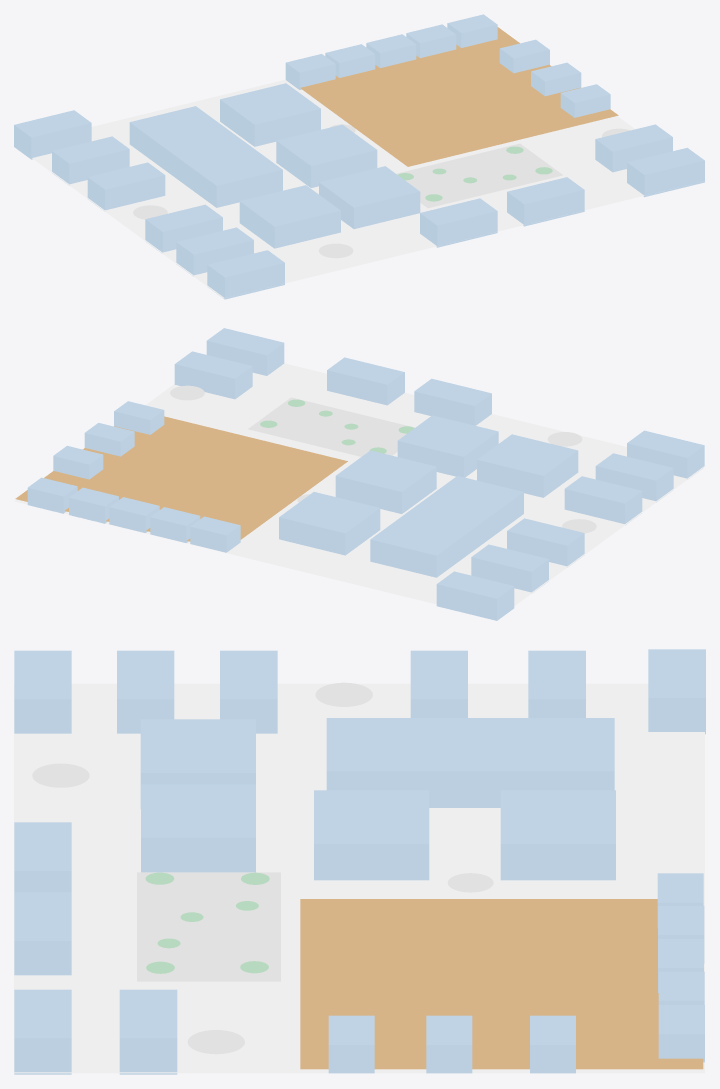
The model's file is mall.glb.
3 views of the same model, one above another, from view 1: azimuth 30°, elevation 25°; view 2: azimuth 150°, elevation 25°; view 3: azimuth 270°, elevation 25° (orthographic). The views are drawn at different scales.
Parts seen in each view (by area): view 1: FoodCourt_Main, Base_Rectangular, Multiplex, Seating_Area, Multiplex.001, Multiplex.002, Multiplex.003, Hypermarket, Shop_A1_01.005, Shop_A1_01.006, Shop_A1_01.008, Shop_A1_01.009 (+14 smaller); view 2: Base_Rectangular, FoodCourt_Main, Multiplex, Seating_Area, Multiplex.002, Multiplex.003, Multiplex.001, Hypermarket, Shop_A1_01, Shop_A1_01.003, Shop_A1_01.008, Shop_A1_01.007 (+14 smaller); view 3: Base_Rectangular, FoodCourt_Main, Multiplex, Seating_Area, Multiplex.002, Multiplex.003, Hypermarket, Multiplex.001, Shop_A1_01.007, Shop_A1_01.006, Shop_A1_01.005, Shop_A1_01.008 (+18 smaller).
Boxes of the visible parts, <box> form: FoodCourt_Main: <box>300,27,618,166</box>; Base_Rectangular: <box>32,79,705,298</box>; Multiplex: <box>129,106,282,207</box>; Seating_Area: <box>396,143,562,208</box>; Multiplex.001: <box>239,185,340,248</box>; Multiplex.002: <box>220,83,320,146</box>; Multiplex.003: <box>276,124,377,187</box>; Hypermarket: <box>319,166,420,229</box>; Shop_A1_01.005: <box>207,250,284,299</box>; Shop_A1_01.006: <box>627,147,704,197</box>; Shop_A1_01.008: <box>507,177,584,226</box>; Shop_A1_01.009: <box>420,198,497,247</box>; Base_Rectangular: <box>14,363,705,605</box>; FoodCourt_Main: <box>15,416,347,541</box>; Multiplex: <box>370,476,523,577</box>; Seating_Area: <box>248,397,414,456</box>; Multiplex.002: <box>279,492,380,555</box>; Multiplex.003: <box>335,450,436,513</box>; Multiplex.001: <box>477,434,578,497</box>; Hypermarket: <box>397,415,498,477</box>; Shop_A1_01: <box>436,571,514,620</box>; Shop_A1_01.003: <box>564,476,642,525</box>; Shop_A1_01.008: <box>327,357,404,405</box>; Shop_A1_01.007: <box>174,351,252,399</box>; Base_Rectangular: <box>14,683,704,1073</box>; FoodCourt_Main: <box>300,899,703,1069</box>; Multiplex: <box>326,718,614,807</box>; Seating_Area: <box>137,872,280,981</box>; Multiplex.002: <box>500,790,615,880</box>; Multiplex.003: <box>314,790,429,880</box>; Hypermarket: <box>141,784,255,872</box>; Multiplex.001: <box>140,719,255,808</box>; Shop_A1_01.007: <box>119,989,177,1074</box>; Shop_A1_01.006: <box>14,989,71,1074</box>; Shop_A1_01.005: <box>14,650,71,733</box>; Shop_A1_01.008: <box>14,892,71,975</box>.
Bounding box in the file's own units: 160 × 7.6 × 120.
